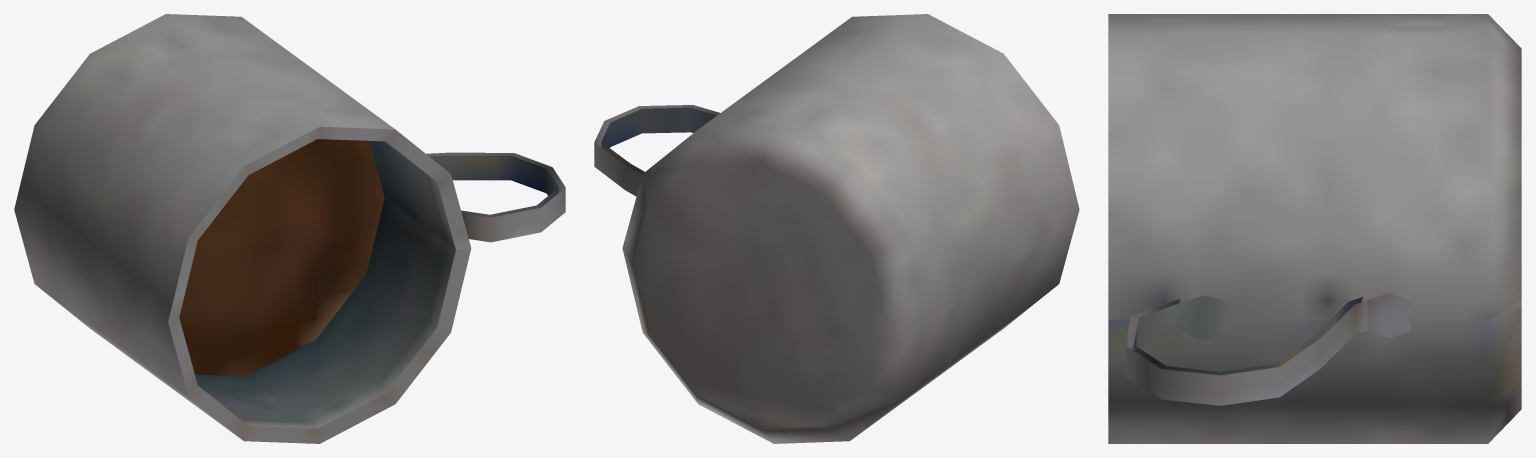
The model's file is hd_h26_Cup01.glb.
The picture shows the model from 3 angles, left to right: view 1: azimuth 30°, elevation 25°; view 2: azimuth 150°, elevation 25°; view 3: azimuth 270°, elevation 25°; orthographic projection. The views are drawn at different scales.
Visible parts, largest first — view 1: set_0_group_0; view 2: set_0_group_0; view 3: set_0_group_0.
Boxes of the visible parts, <box> form: set_0_group_0: <box>14,14,565,443</box>; set_0_group_0: <box>594,14,1079,443</box>; set_0_group_0: <box>1108,14,1521,443</box>.
Size of the model in its own units: 0.1632 by 0.1151 by 0.1102.
1 material, 1 textured.
